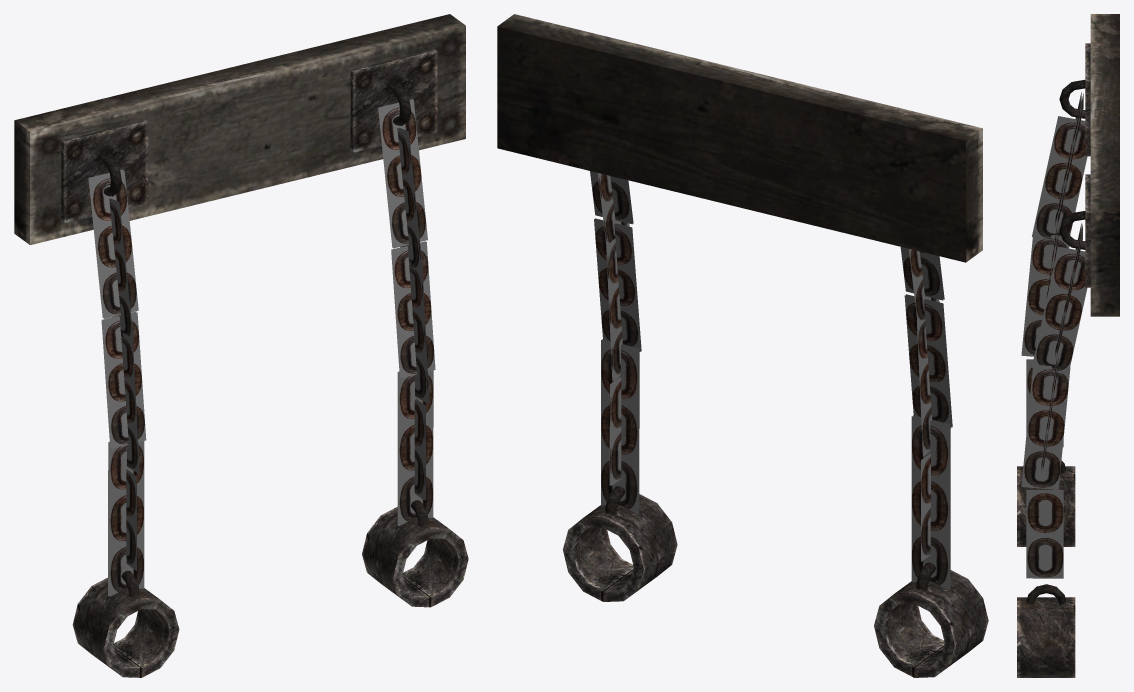
File: shackles.dae
3 renders of one model, left to right at view 1: azimuth 30°, elevation 25°; view 2: azimuth 150°, elevation 25°; view 3: azimuth 270°, elevation 25°, orthographic. The views are drawn at different scales.
Parts seen in each view (by area): view 1: board, lshack, rshack, lchain1, rchain1, rchain2, rchain3, lchain3, lchain2; view 2: board, lshack, rshack, rchain3, lchain3, rchain2, lchain2, rchain1, lchain1; view 3: board, lshack, lchain2, lchain1, rchain1, lchain3, rchain2, rshack, rchain3.
Part boxes in pixels (<box>): board: <box>14,14,465,244</box>; lshack: <box>362,500,468,607</box>; rshack: <box>72,571,179,677</box>; lchain1: <box>378,99,427,271</box>; rchain1: <box>88,169,138,342</box>; rchain2: <box>101,311,146,473</box>; rchain3: <box>108,441,144,596</box>; lchain3: <box>397,370,433,525</box>; lchain2: <box>391,241,435,403</box>; board: <box>497,14,982,262</box>; lshack: <box>563,486,677,601</box>; rshack: <box>874,562,988,677</box>; rchain3: <box>911,415,950,590</box>; lchain3: <box>601,339,639,514</box>; rchain2: <box>904,294,952,456</box>; lchain2: <box>594,218,641,380</box>; rchain1: <box>900,247,944,327</box>; lchain1: <box>590,171,633,244</box>; board: <box>1059,14,1119,316</box>; lshack: <box>1017,584,1075,677</box>; lchain2: <box>1021,354,1070,489</box>; lchain1: <box>1032,223,1087,374</box>; rchain1: <box>1032,92,1087,239</box>; lchain3: <box>1026,469,1063,578</box>; rchain2: <box>1021,223,1069,356</box>; rshack: <box>1017,460,1075,546</box>; rchain3: <box>1026,359,1063,447</box>.
Bounding box in the file's own units: 1 × 1.17 × 0.2202.
